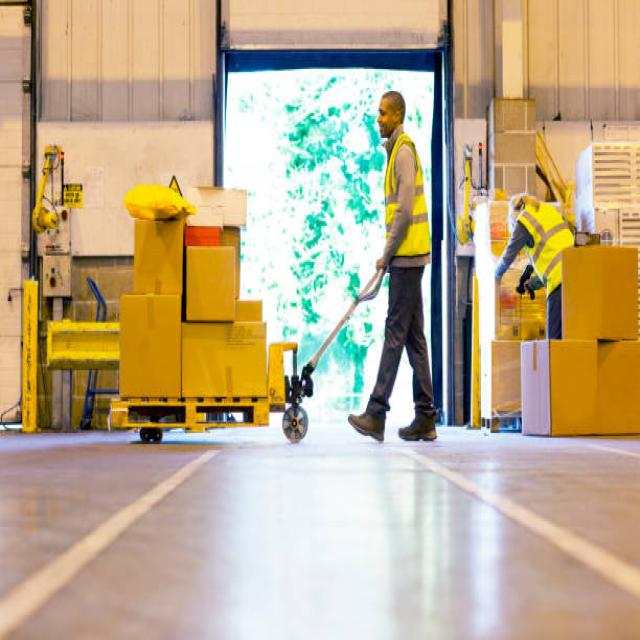Wooden-Pallets: (105, 396, 271, 431)
